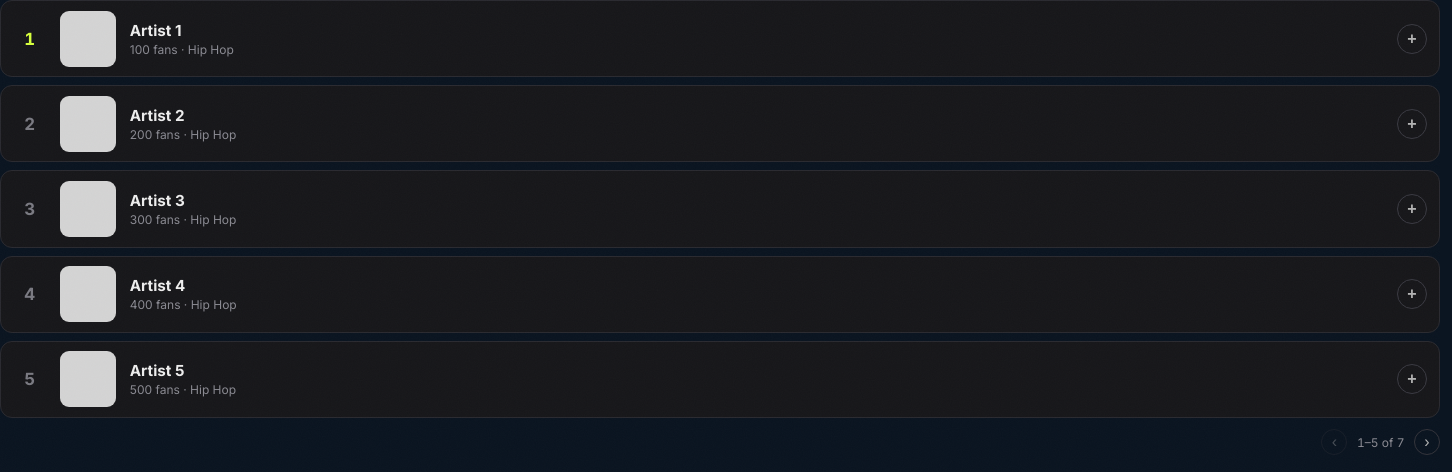
Test: RankCardList › paging › stops at both ends
The width and height of the screenshot is (1452, 472).
Check: the button named "previous ranks" is disabled, box [1321, 429, 1347, 455]
Click the button named "next ranks" at (1427, 442), box [1414, 429, 1440, 455]
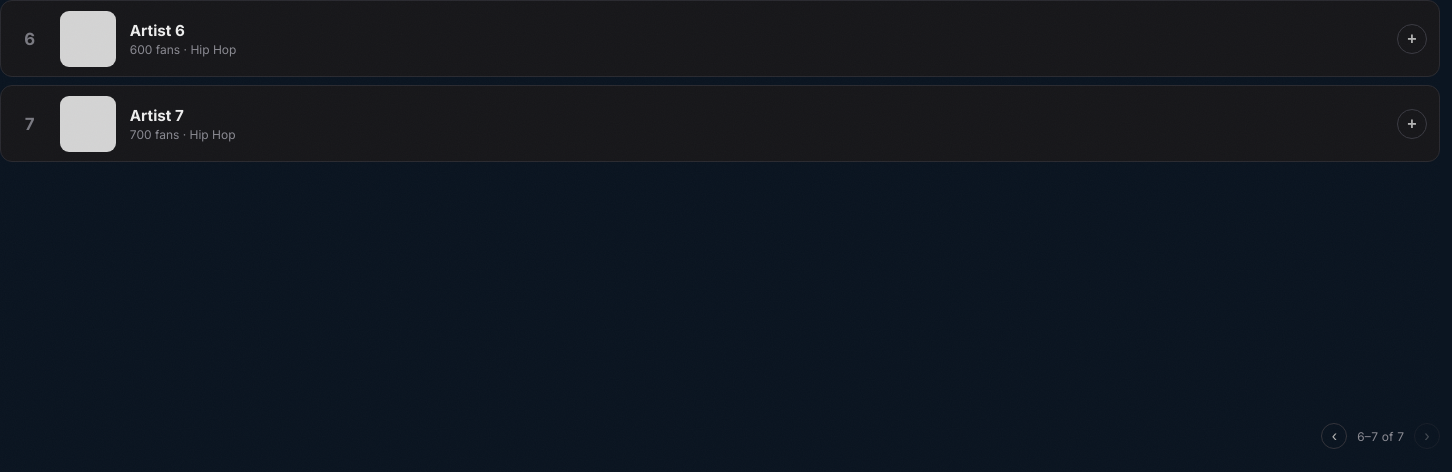
Check: the button named "next ranks" is disabled, box [1414, 423, 1440, 449]
